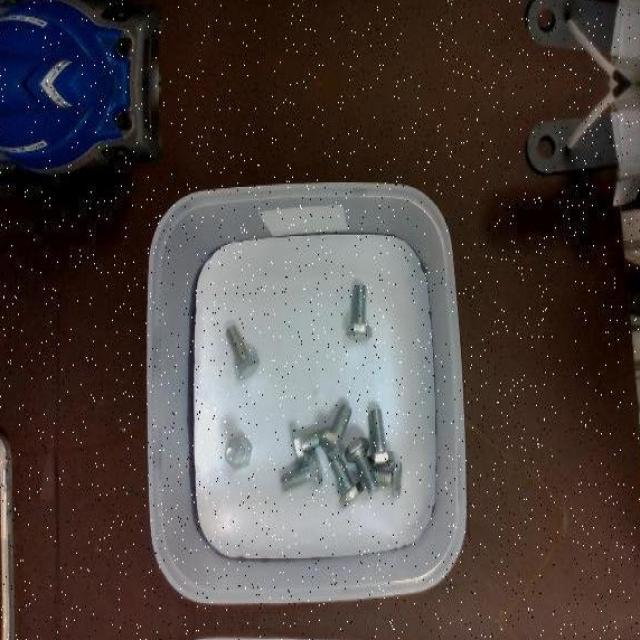screw: (344, 436, 380, 496), (225, 324, 259, 380), (319, 403, 352, 458), (281, 451, 323, 489), (368, 408, 395, 466), (347, 284, 372, 341), (225, 432, 251, 469)
